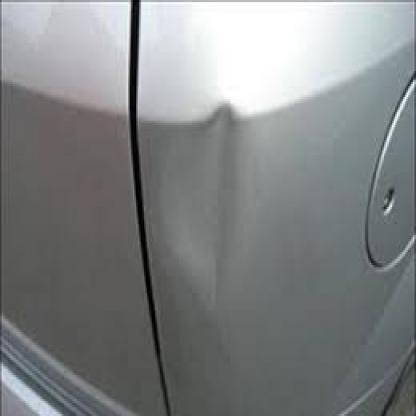dent: (164, 92, 260, 300)
